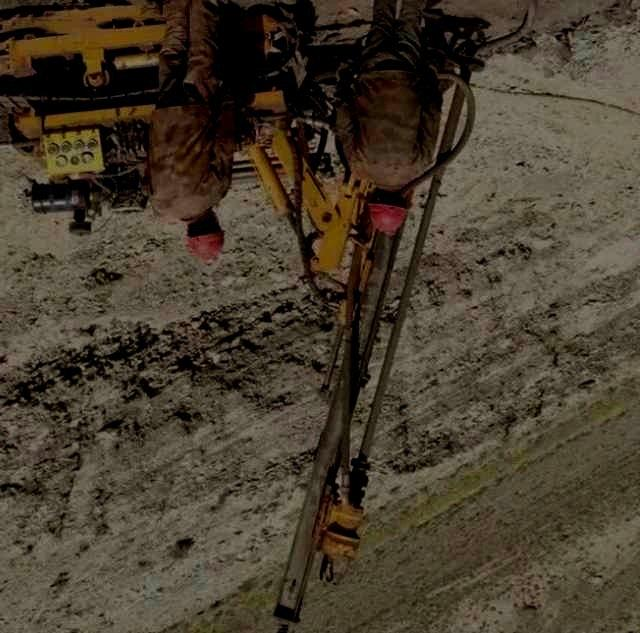helmet: (366, 188, 414, 235), (183, 209, 226, 261)
